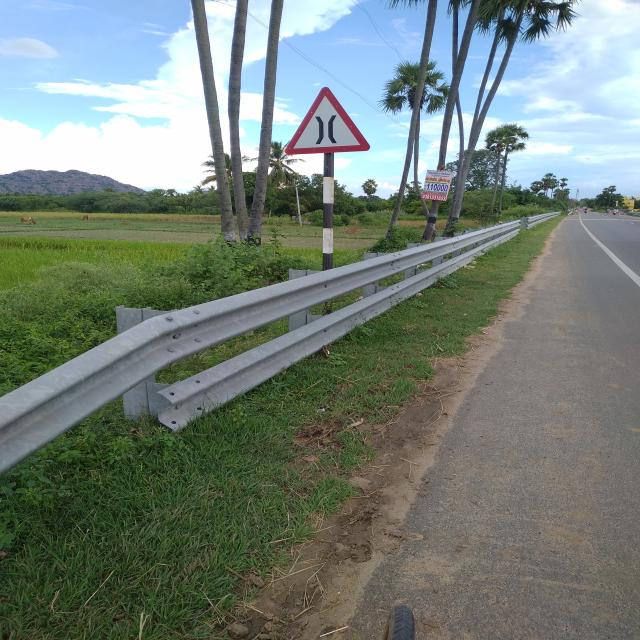NARROW_BRIDGE_AHEAD: (284, 86, 371, 156)
